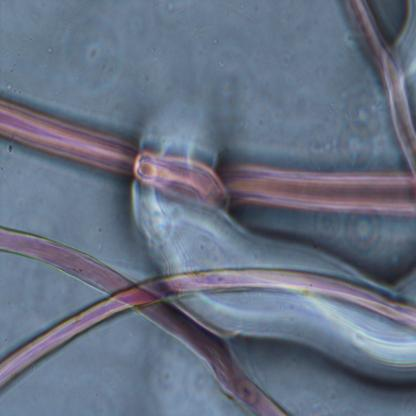Background material: (238, 298, 416, 401), (129, 195, 263, 269), (60, 20, 128, 95), (338, 88, 383, 174)
Microfibre: (0, 225, 289, 415), (0, 264, 416, 393), (0, 98, 416, 222), (342, 2, 416, 170)
